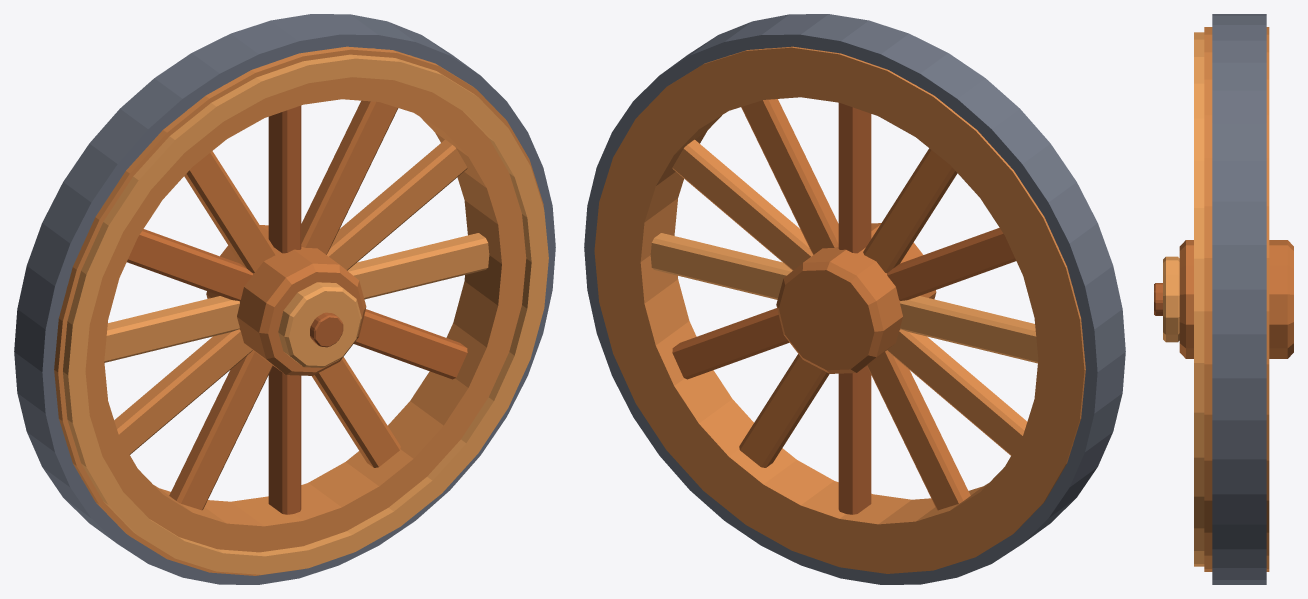
The model's file is Wheel.fbx.
The picture shows the model from 3 angles, left to right: view 1: azimuth 30°, elevation 25°; view 2: azimuth 150°, elevation 25°; view 3: azimuth 270°, elevation 25°; orthographic projection. The views are drawn at different scales.
Parts seen in each view (by area): view 1: GEO-Wagon_Wheel-axle_pin; view 2: GEO-Wagon_Wheel-axle_pin; view 3: GEO-Wagon_Wheel-axle_pin.
Part boxes in pixels (x1,y1,x2,y2): GEO-Wagon_Wheel-axle_pin: (14, 14, 555, 584); GEO-Wagon_Wheel-axle_pin: (584, 14, 1125, 584); GEO-Wagon_Wheel-axle_pin: (1154, 14, 1293, 584).
Bounding box in the file's own units: 110 × 110 × 26.95.
